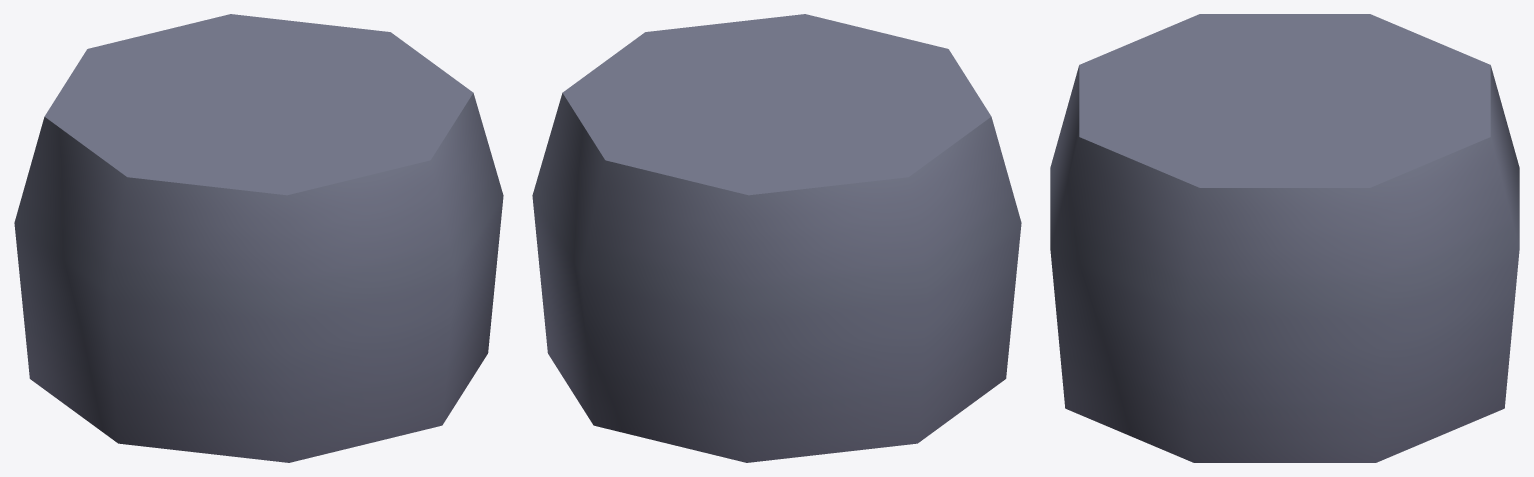
File: tower-base.glb
The picture shows the model from 3 angles, left to right: view 1: azimuth 30°, elevation 25°; view 2: azimuth 150°, elevation 25°; view 3: azimuth 270°, elevation 25°; orthographic projection. The views are drawn at different scales.
Parts seen in each view (by area): view 1: tower-base; view 2: tower-base; view 3: tower-base.
Part boxes in pixels (left/top/right/bottom): tower-base: left=14, top=14, right=503, bottom=462; tower-base: left=532, top=14, right=1021, bottom=462; tower-base: left=1050, top=14, right=1519, bottom=462.
Bounding box in the file's own units: 3.16 × 2 × 3.16.
1 material, 1 textured.
